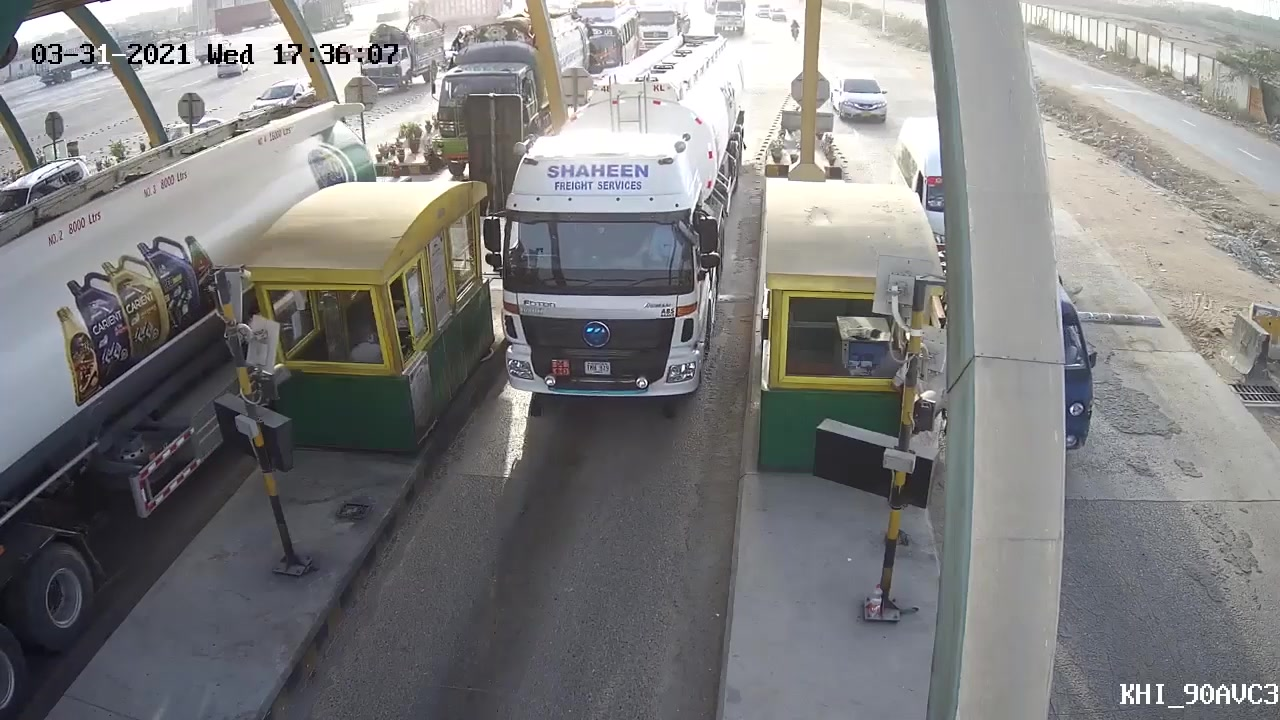F6: (488, 26, 756, 411)
